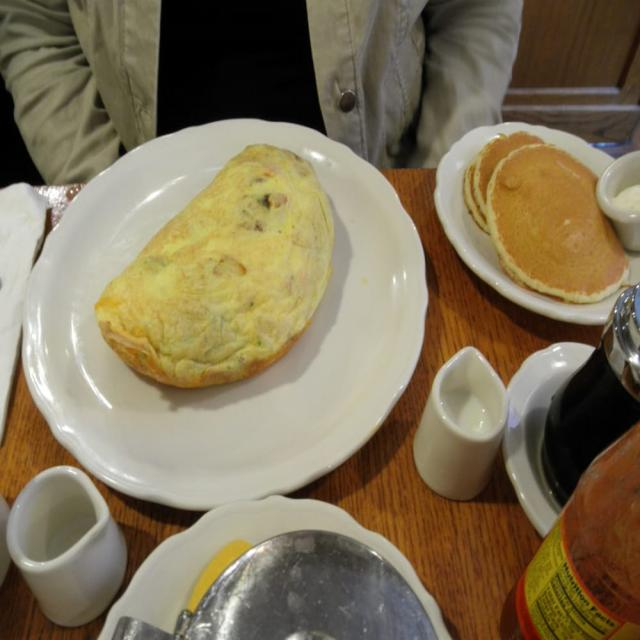Omelette: (90, 142, 336, 392)
Pancakes: (456, 120, 631, 308)
